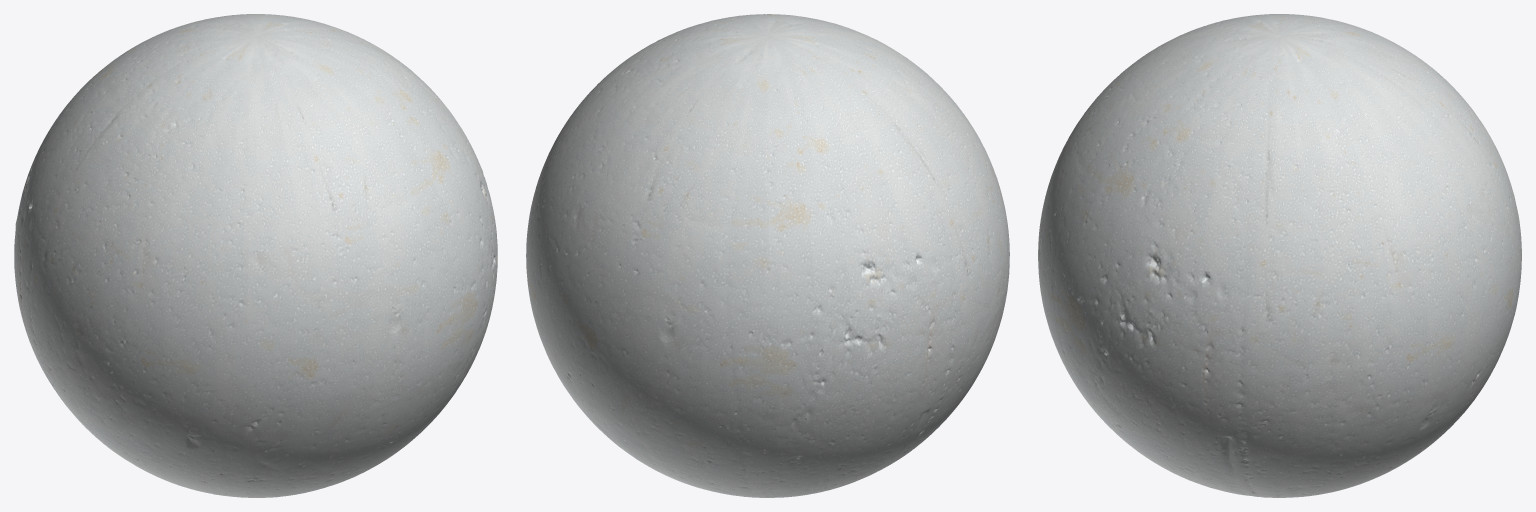
Rendered from polystyrene_1k.gltf.
3 views of the same model, side by side, from view 1: azimuth 30°, elevation 25°; view 2: azimuth 150°, elevation 25°; view 3: azimuth 270°, elevation 25° (orthographic).
Parts seen in each view (by area): view 1: sphere_gltf; view 2: sphere_gltf; view 3: sphere_gltf.
Boxes of the visible parts, x1,y1,x2,y2 form: sphere_gltf: (14, 14, 497, 497); sphere_gltf: (526, 14, 1009, 497); sphere_gltf: (1038, 14, 1521, 497).
Size of the model in its own units: 1.52 by 1.52 by 1.52.
1 material, 1 textured.
